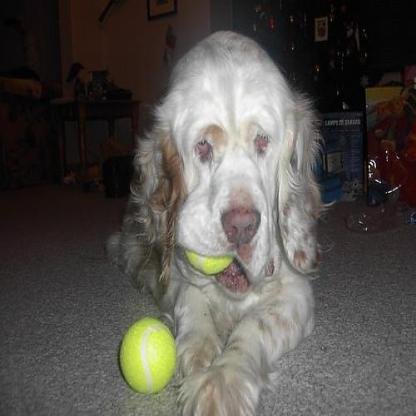clumber: (108, 26, 335, 414)
